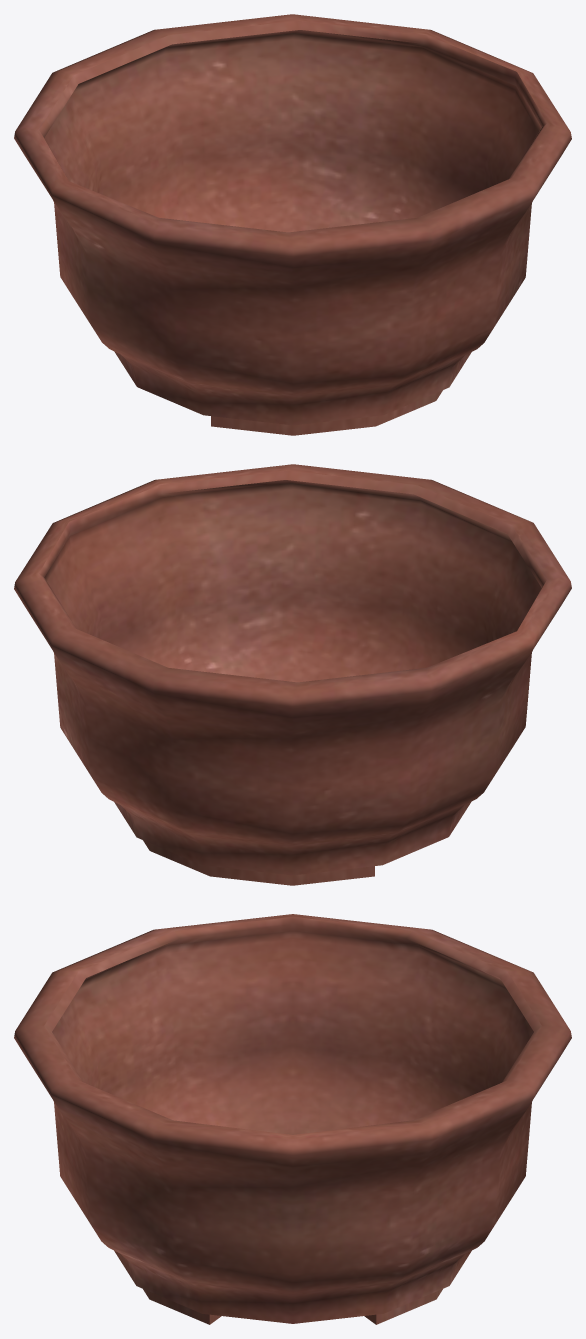
The model's file is bonsai_hachi02.fbx.
3 renders of one model, top to bottom at view 1: azimuth 30°, elevation 25°; view 2: azimuth 150°, elevation 25°; view 3: azimuth 270°, elevation 25°, orthographic.
Visible parts, largest first — view 1: bonsai_hachi_02; view 2: bonsai_hachi_02; view 3: bonsai_hachi_02.
Part boxes in pixels (x1,y1,x2,y2): bonsai_hachi_02: (14, 14, 571, 435); bonsai_hachi_02: (14, 464, 571, 885); bonsai_hachi_02: (14, 914, 571, 1324).
Size of the model in its own units: 13.76 by 6.52 by 13.8.
